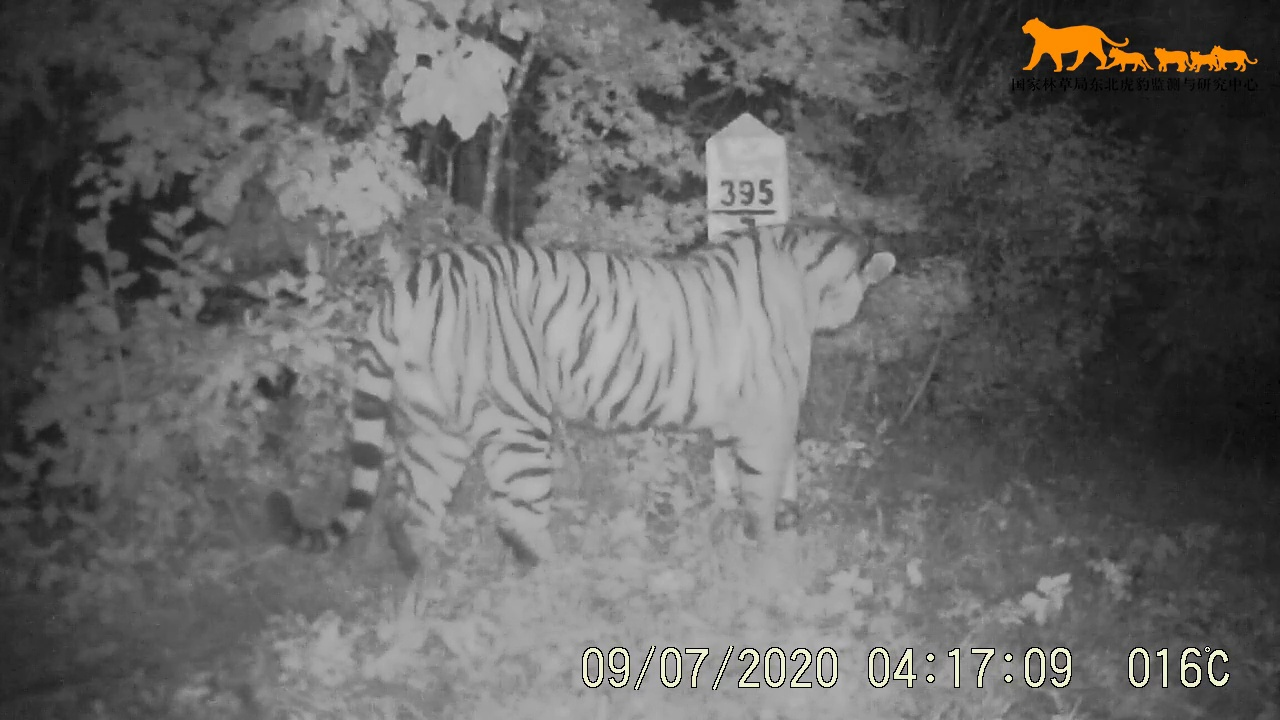Tiger: (237, 196, 918, 629)
